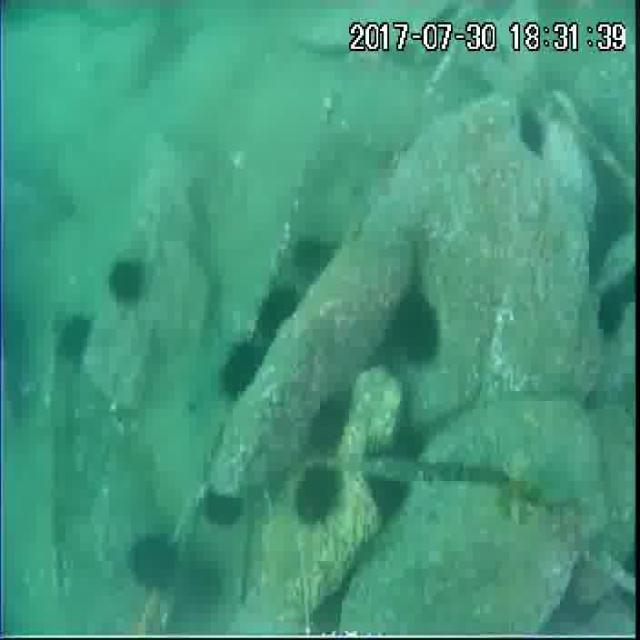echinus: (393, 284, 445, 364), (126, 529, 179, 591), (294, 465, 342, 531), (255, 284, 302, 346), (308, 392, 354, 454), (363, 466, 409, 524), (218, 344, 266, 399), (592, 187, 638, 243), (203, 483, 246, 531), (289, 230, 331, 278), (52, 311, 92, 360), (108, 254, 144, 304), (517, 111, 549, 160), (392, 420, 429, 458), (596, 287, 626, 333)
